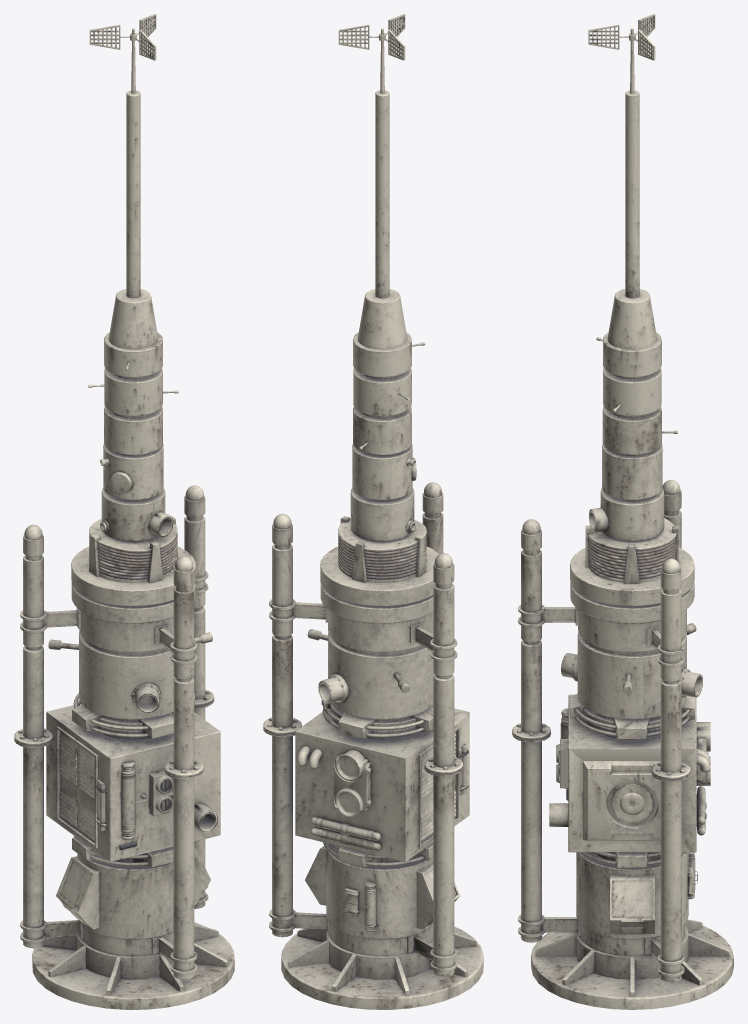
3 views of the same model, side by side, from view 1: azimuth 30°, elevation 25°; view 2: azimuth 150°, elevation 25°; view 3: azimuth 270°, elevation 25° (orthographic).
Parts seen in each view (by area): view 1: Main_Body, Outliers, Details, Discs, Hoops, Paddles; view 2: Main_Body, Outliers, Details, Discs, Hoops, Paddles; view 3: Main_Body, Outliers, Details, Discs, Hoops, Paddles.
Part boxes in pixels (x1=…): Main_Body: x1=32, y1=28, x2=234, y2=1009; Outliers: x1=14, y1=485, x2=214, y2=979; Details: x1=48, y1=362, x2=217, y2=849; Discs: x1=89, y1=519, x2=177, y2=579; Hoops: x1=72, y1=693, x2=194, y2=867; Paddles: x1=89, y1=14, x2=156, y2=60; Main_Body: x1=281, y1=28, x2=483, y2=1009; Outliers: x1=263, y1=482, x2=462, y2=976; Details: x1=296, y1=342, x2=468, y2=932; Discs: x1=338, y1=517, x2=426, y2=579; Hoops: x1=321, y1=700, x2=433, y2=867; Paddles: x1=338, y1=14, x2=405, y2=60; Main_Body: x1=531, y1=28, x2=733, y2=1009; Outliers: x1=512, y1=480, x2=690, y2=981; Details: x1=549, y1=337, x2=710, y2=899; Discs: x1=588, y1=518, x2=676, y2=578; Hoops: x1=569, y1=693, x2=694, y2=867; Paddles: x1=588, y1=14, x2=655, y2=60.
Bounding box in the file's own units: 1.24 × 5.73 × 1.22.
1 material, 1 textured.
